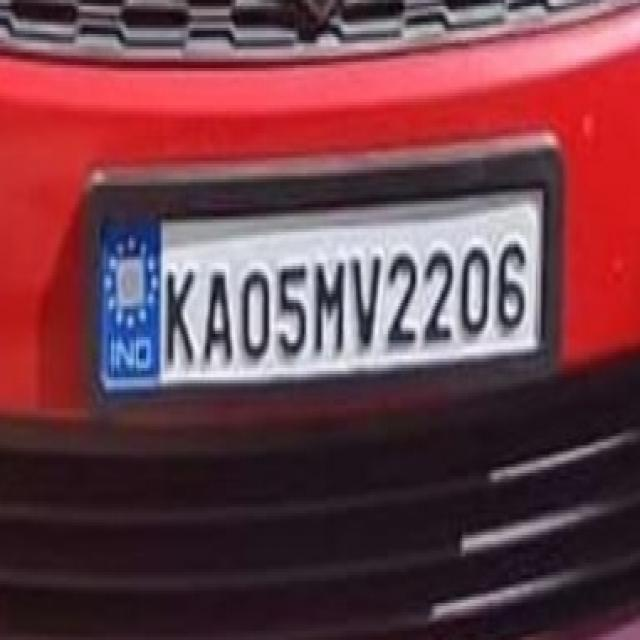0: (458, 240, 491, 356), (238, 260, 272, 364)
5: (274, 259, 312, 363)
6: (494, 223, 530, 339)
A: (200, 258, 236, 370)
K: (163, 256, 196, 375)
M: (313, 258, 348, 364)
V: (350, 245, 382, 356)
